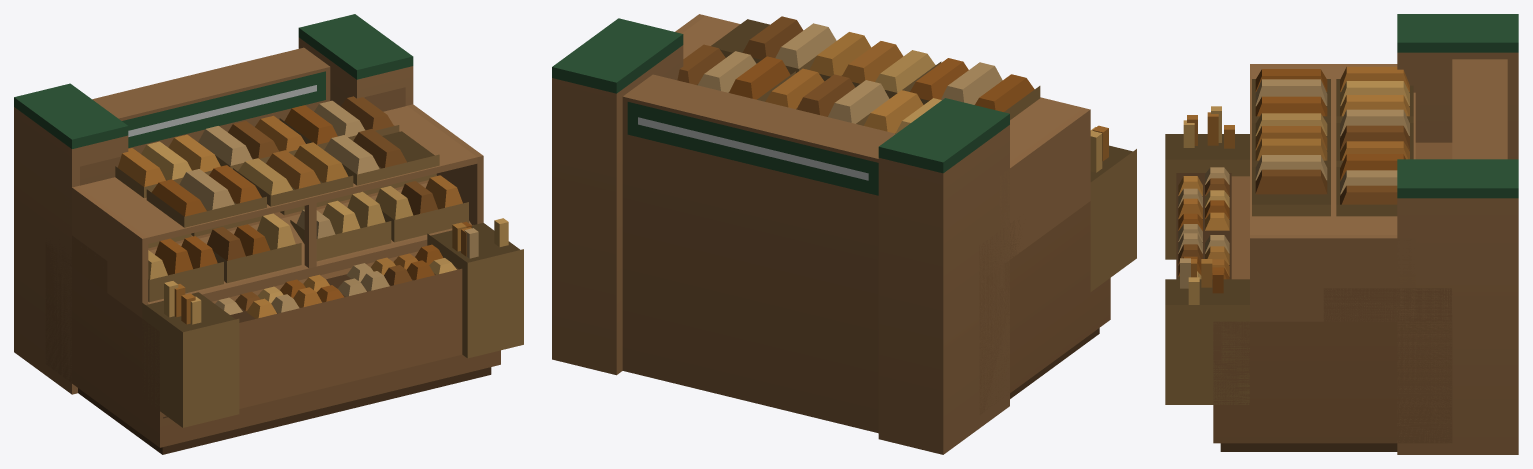
Rendered from shop.bakery_stand.oak.glb.
The picture shows the model from 3 angles, left to right: view 1: azimuth 30°, elevation 25°; view 2: azimuth 150°, elevation 25°; view 3: azimuth 270°, elevation 25°; orthographic projection. The views are drawn at different scales.
Visible parts, largest first — view 1: shop_bakery_stand_oak; view 2: shop_bakery_stand_oak; view 3: shop_bakery_stand_oak.
Part boxes in pixels (left/top/right/bottom): shop_bakery_stand_oak: left=14, top=14, right=523, bottom=454; shop_bakery_stand_oak: left=552, top=14, right=1136, bottom=454; shop_bakery_stand_oak: left=1165, top=14, right=1518, bottom=454.
Size of what is drawn, in the model's own units: 2.24 by 1.6 by 1.92.
